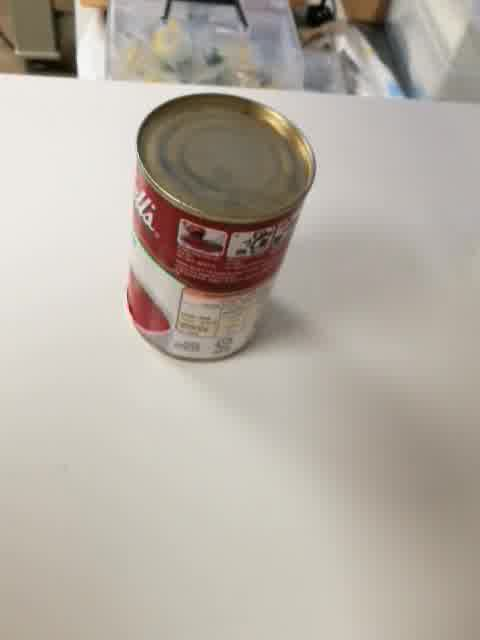tomatosoup: (125, 92, 317, 364)
